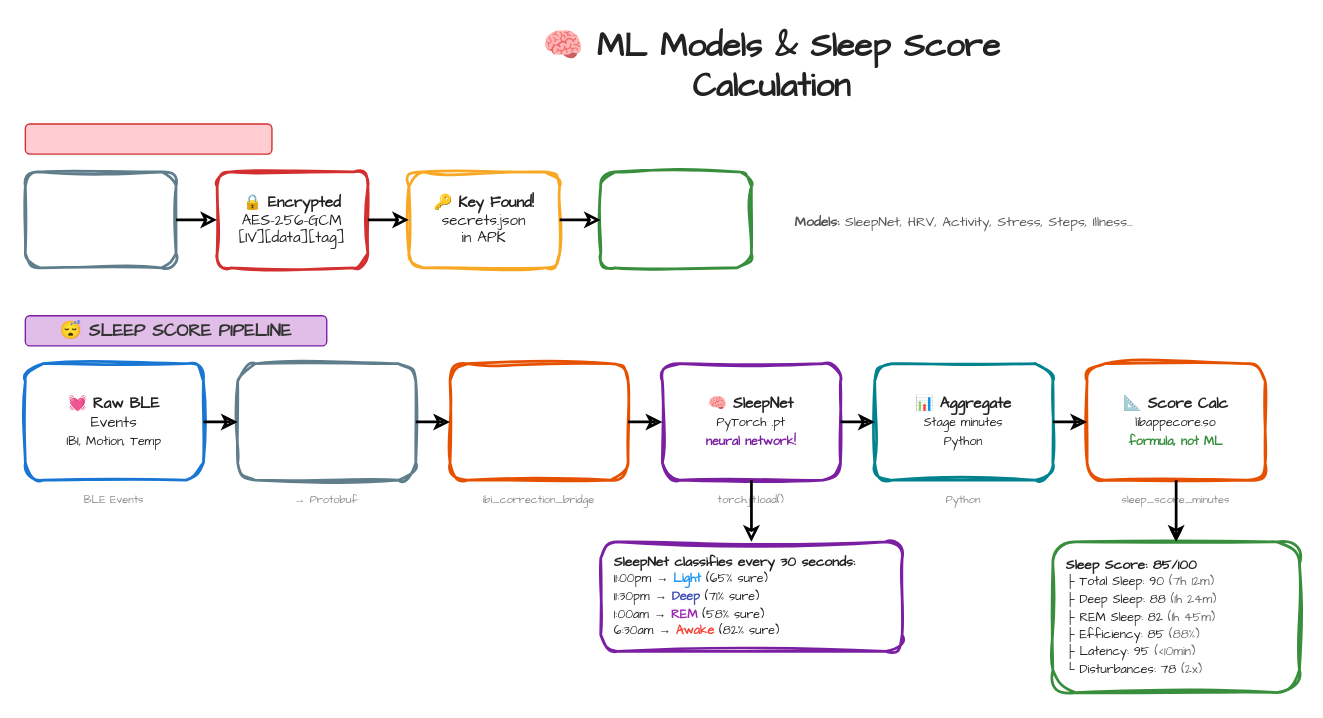
The diagram is 1323 pixels wide and 718 high, and some of its shapes have lost their labels. The centre of each missing label's shape, as x and y in pixels:
"✅ Decrypted TorchScript .pt torch.jit.load()" goes at (675,219).
"📄 Parser libringeventparser.so parser_bridge.c" goes at (326,421).
"📦 APK 28 encrypted PyTorch models" goes at (100,219).
"🔓 MODEL DECRYPTION" goes at (148,138).
"🔧 IBI Correct libappecore.so callback hack!" goes at (538,421).
